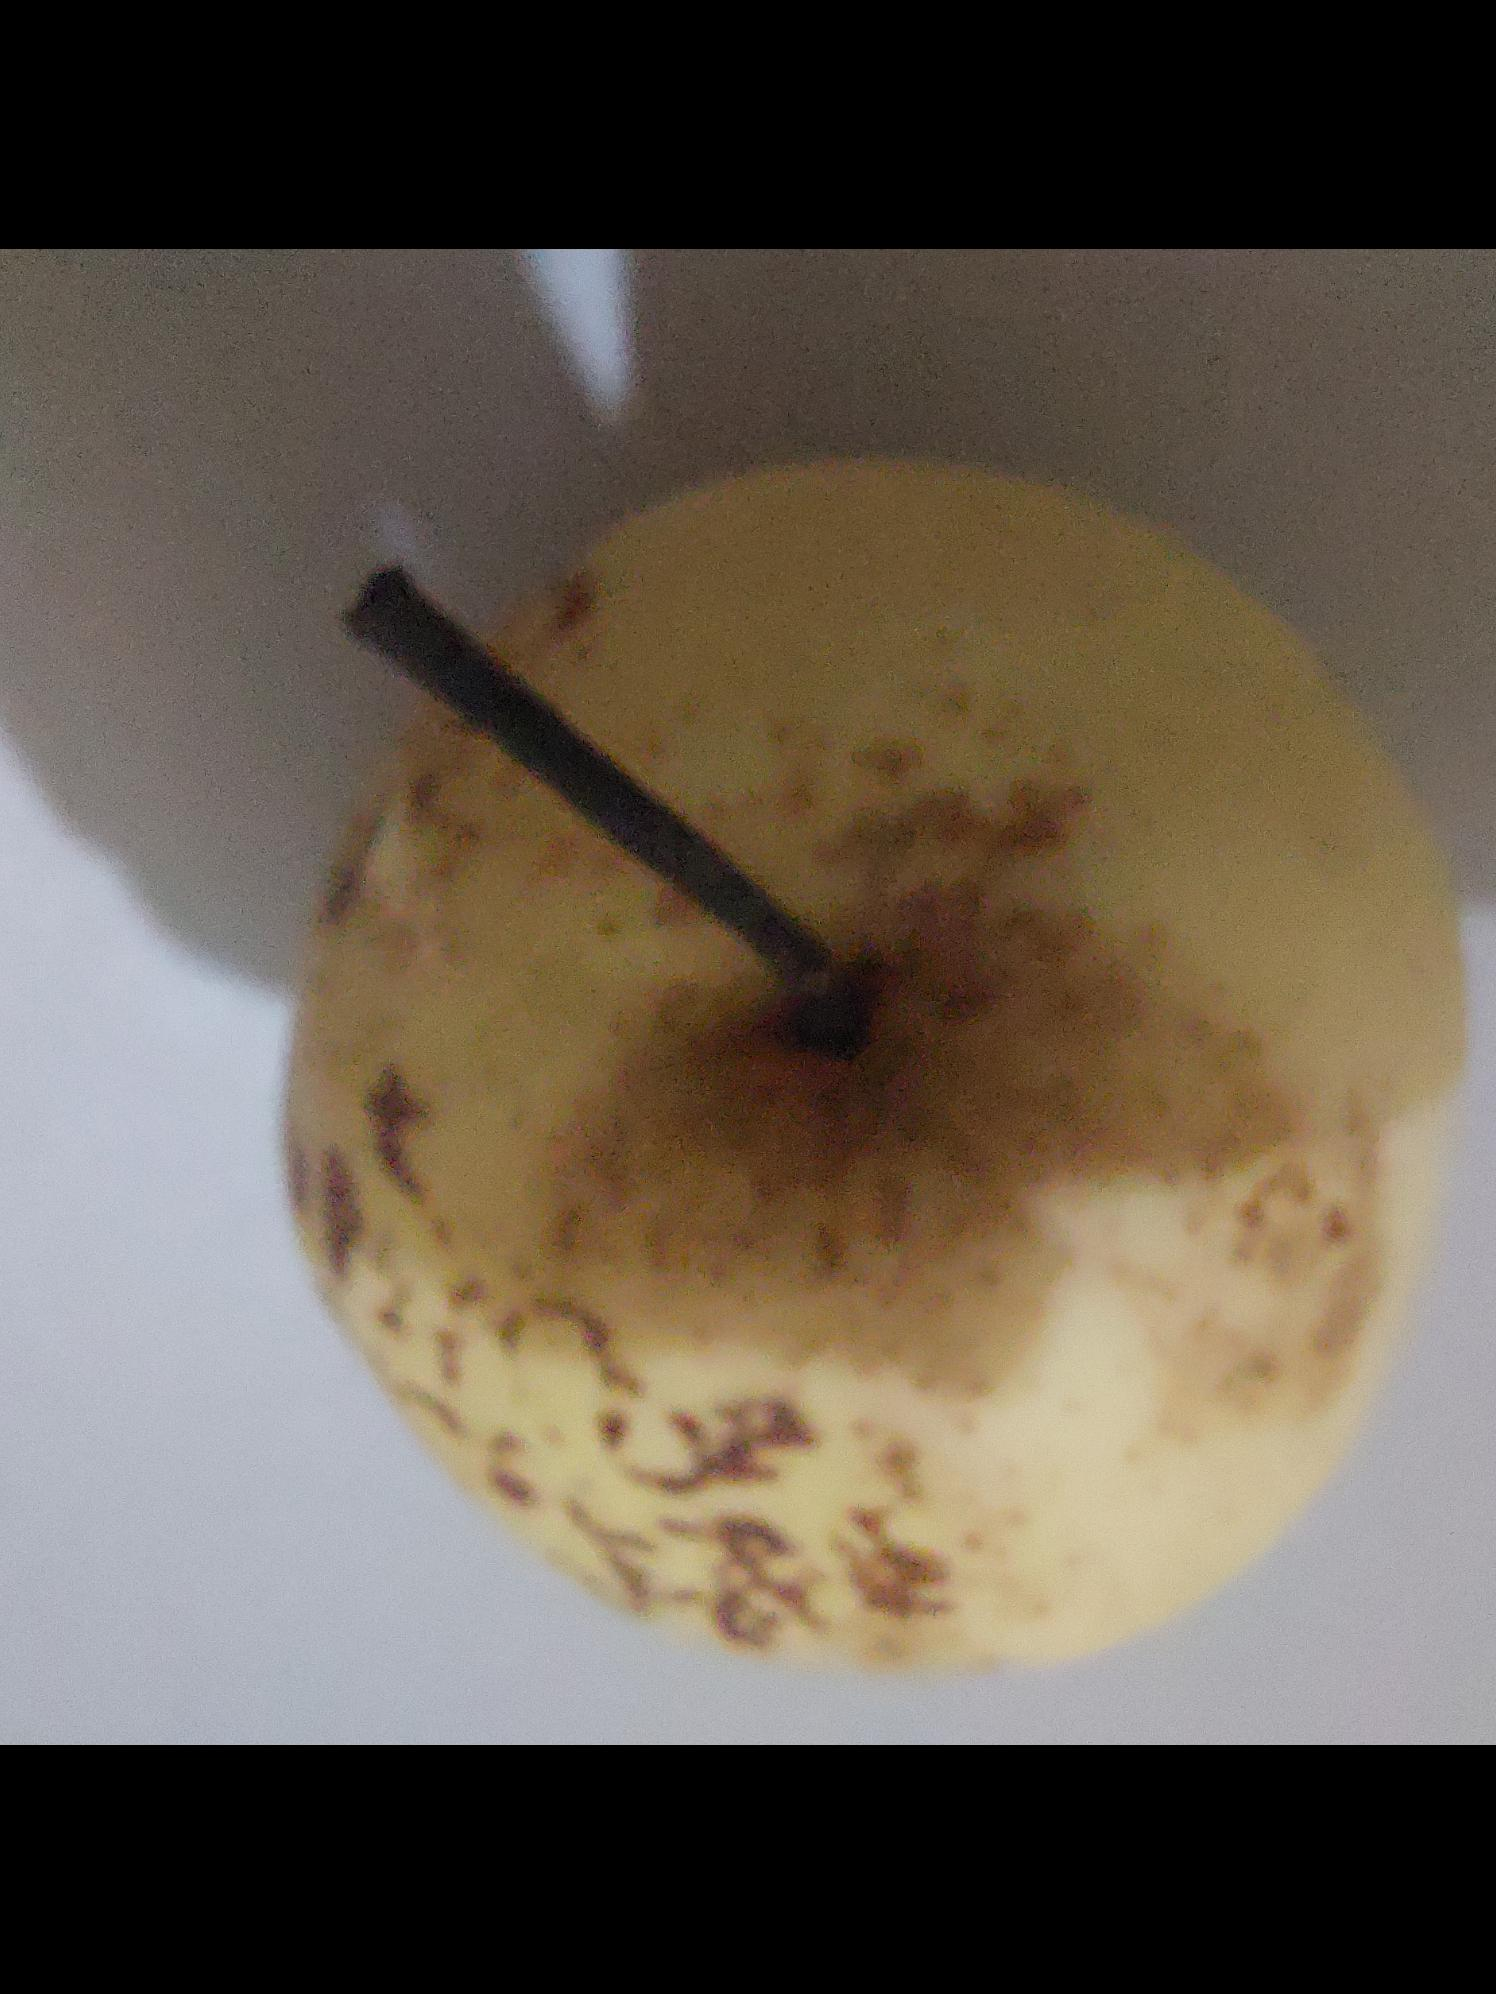Bad Pear: (278, 440, 1452, 1647)
